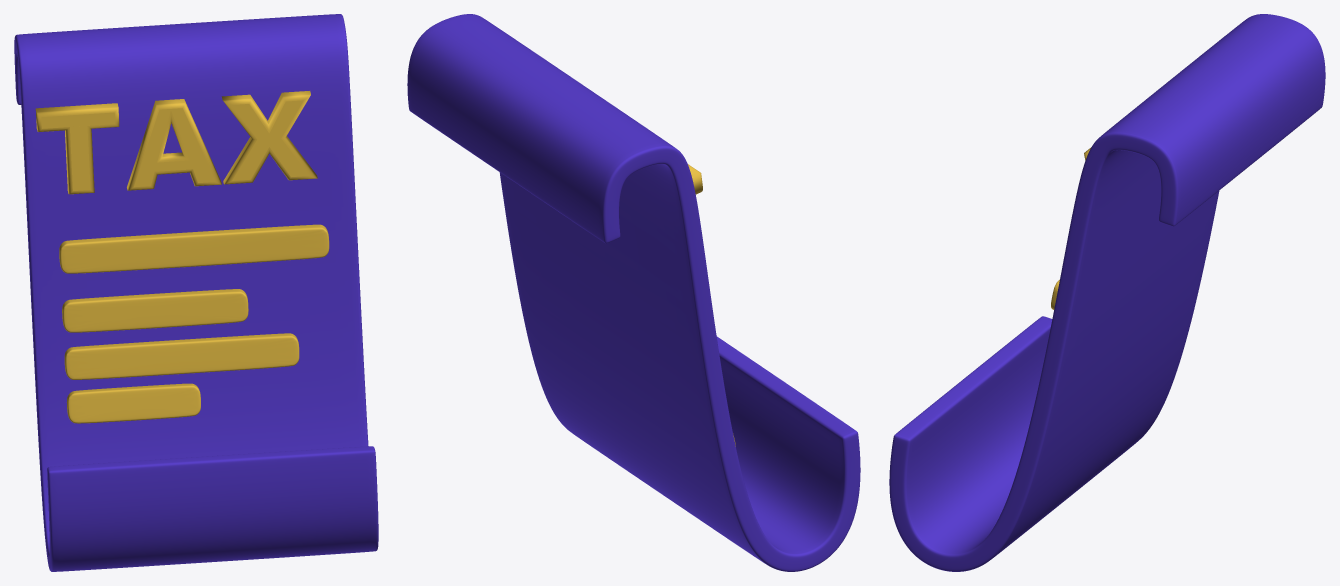
The model's file is tax-3d-icon-328803627806.glb.
3 renders of one model, left to right at view 1: azimuth 30°, elevation 25°; view 2: azimuth 150°, elevation 25°; view 3: azimuth 270°, elevation 25°, orthographic. The views are drawn at different scales.
Visible parts, largest first — view 1: Paper, Tax & Text; view 2: Paper; view 3: Paper.
Part boxes in pixels (left/top/right/bottom): Paper: left=14, top=14, right=378, bottom=571; Tax & Text: left=35, top=91, right=329, bottom=423; Paper: left=407, top=14, right=860, bottom=571; Paper: left=889, top=14, right=1325, bottom=571.
Bounding box in the file's own units: 1.66 × 2.02 × 1.68.
